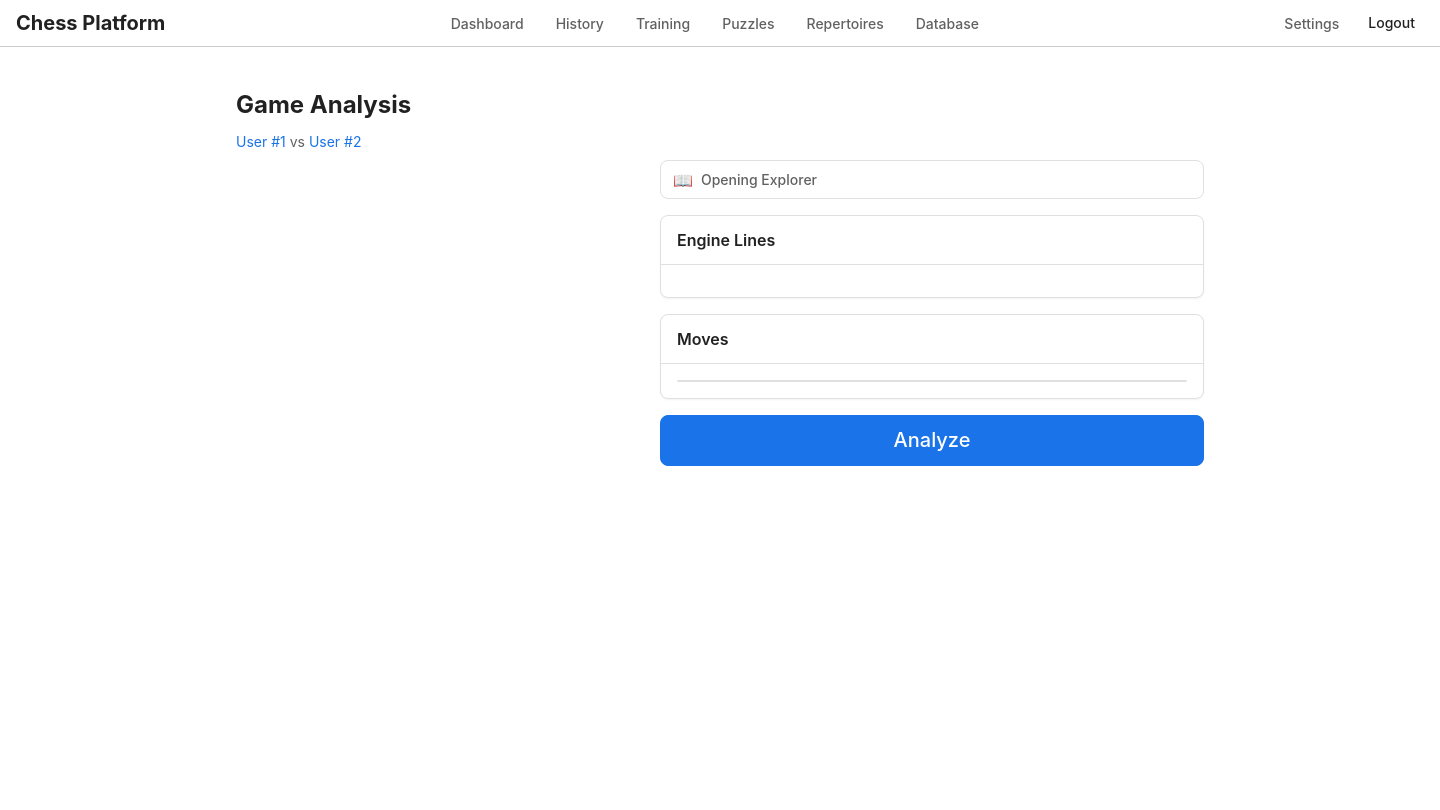
Test case: AnalysisPage › displays accuracy scores and eval bar after server analysis completes
What coordinates should you click on to do the following:
click the button with test id "analyze-button"
I would click on:
 (932, 440)
Its box is [660, 415, 1204, 466].
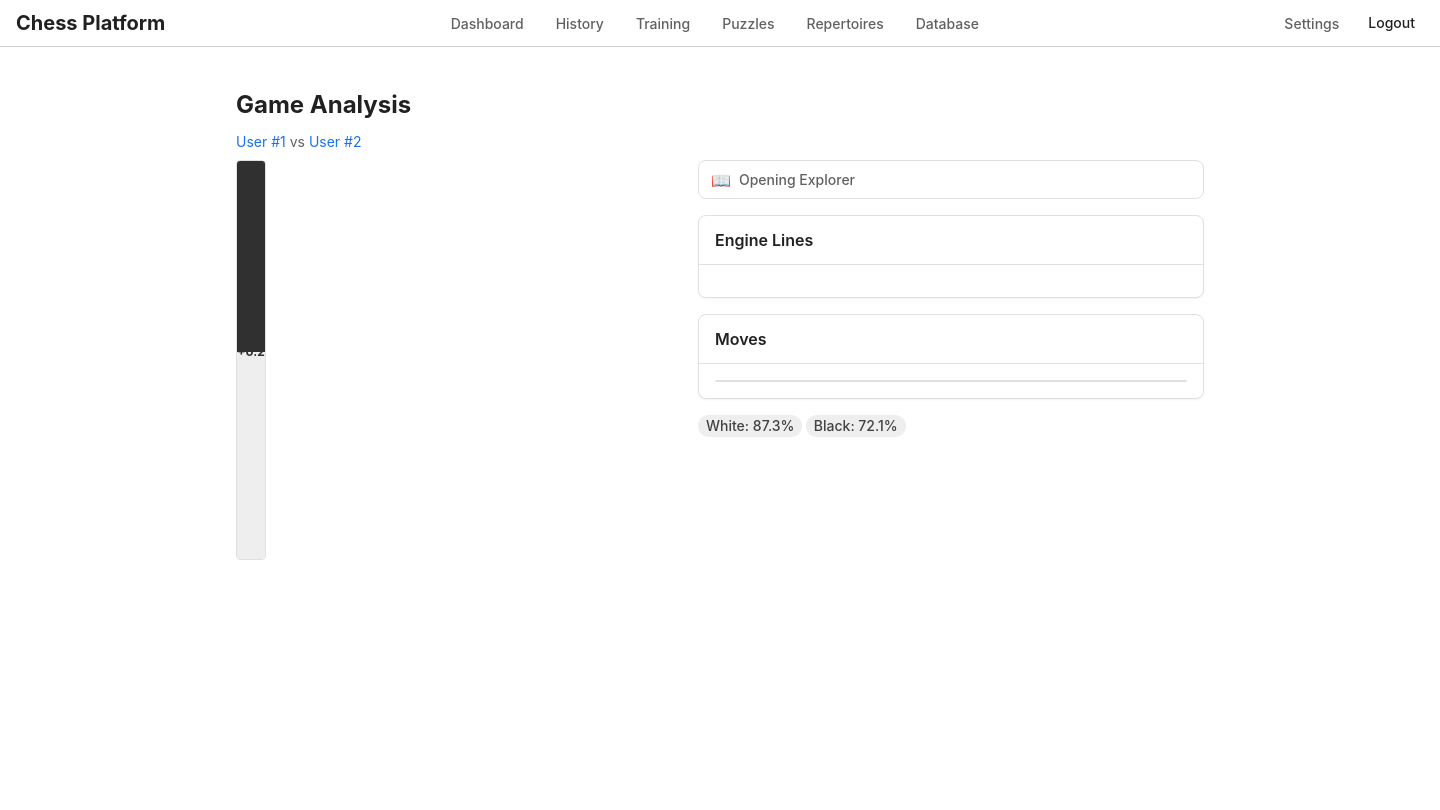
Now the element with test id "accuracy-display" shows "White: 87.3%", box [698, 415, 906, 437]
Now the element with test id "accuracy-display" shows "Black: 72.1%", box [698, 415, 906, 437]
Now the element with test id "eval-bar" is shown, box [236, 160, 266, 560]
